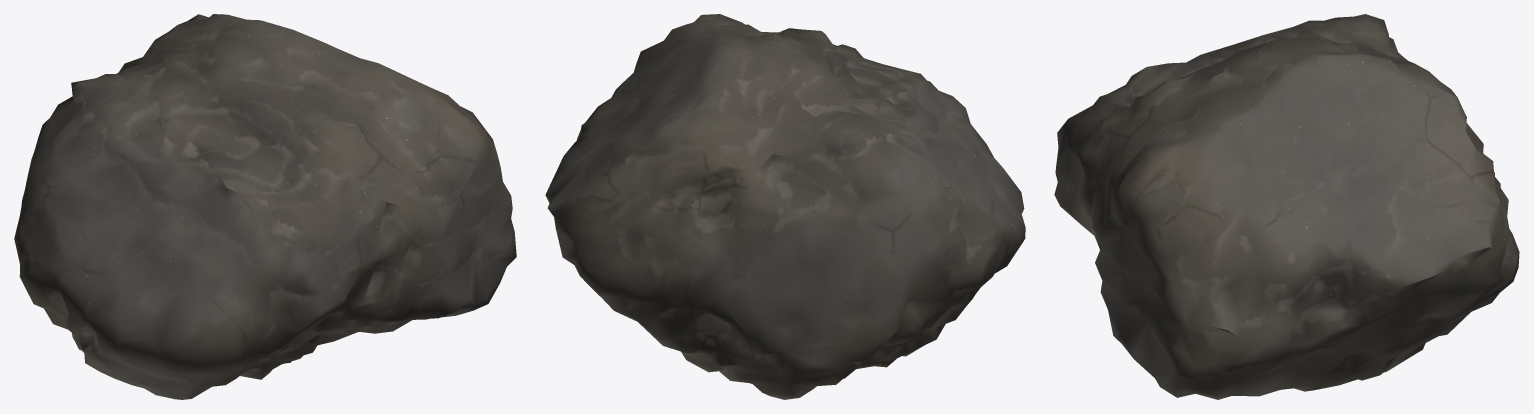
File: asteroid_4.glb
The picture shows the model from 3 angles, left to right: view 1: azimuth 30°, elevation 25°; view 2: azimuth 150°, elevation 25°; view 3: azimuth 270°, elevation 25°; orthographic projection. The views are drawn at different scales.
Visible parts, largest first — view 1: lod0; view 2: lod0; view 3: lod0.
Boxes of the visible parts, bbox=[...] form: lod0: bbox=[14, 14, 516, 399]; lod0: bbox=[545, 14, 1025, 399]; lod0: bbox=[1054, 14, 1519, 399].
Size of what is drawn, in the model's own units: 80 by 56.44 by 71.99.
Materials: 1 (1 with a texture image).
